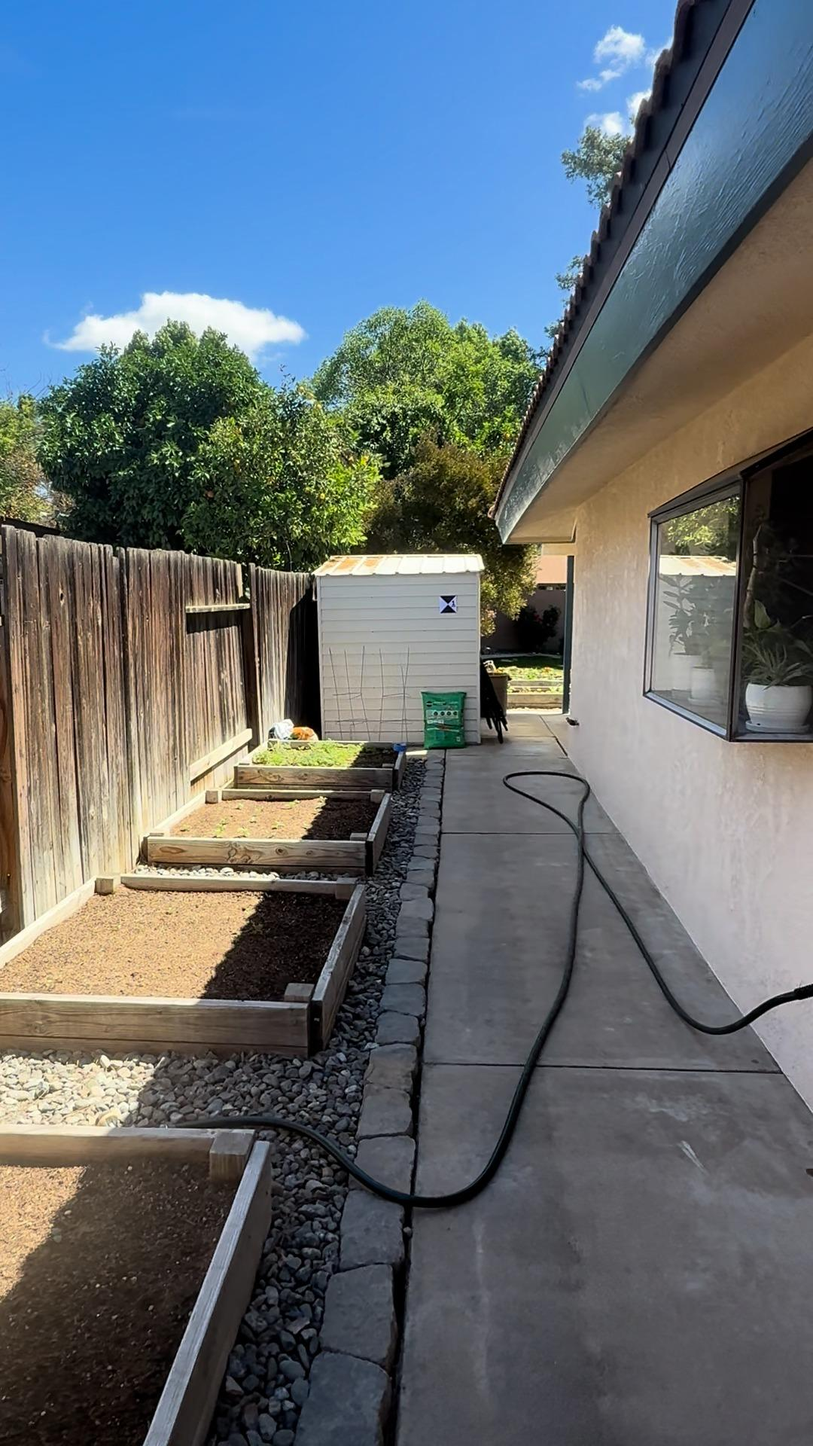target1: (437, 595, 458, 615)
